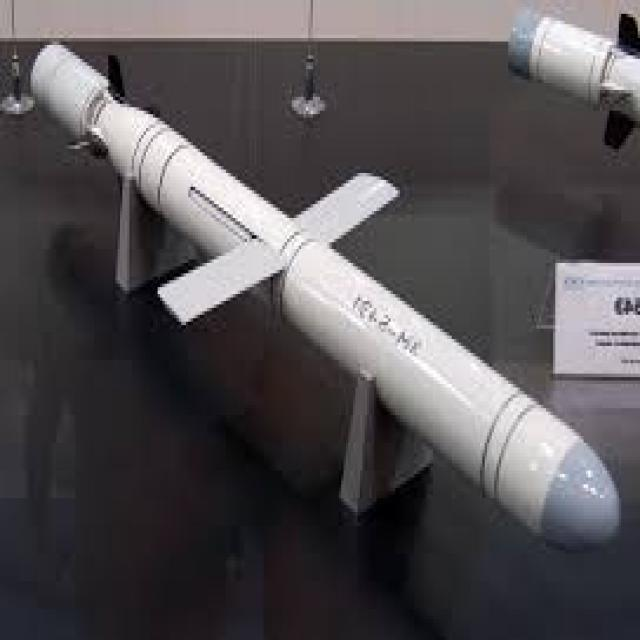Missile: (0, 18, 640, 590)
